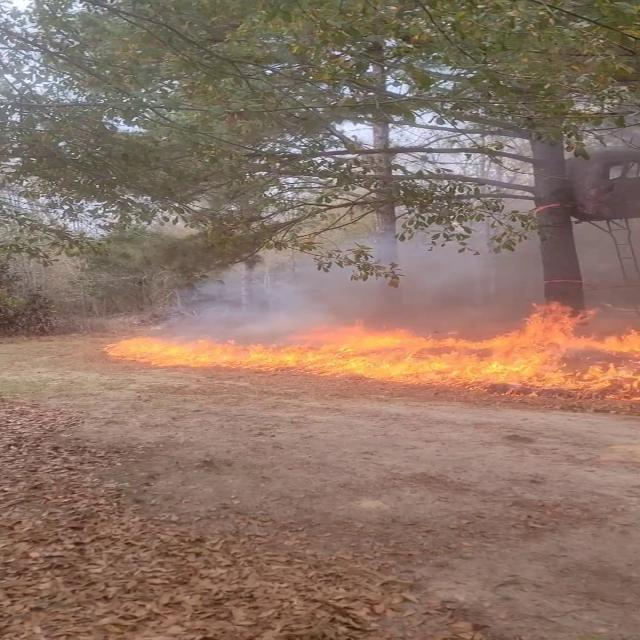Fire: (100, 313, 638, 382)
Smoke: (173, 220, 636, 334)
